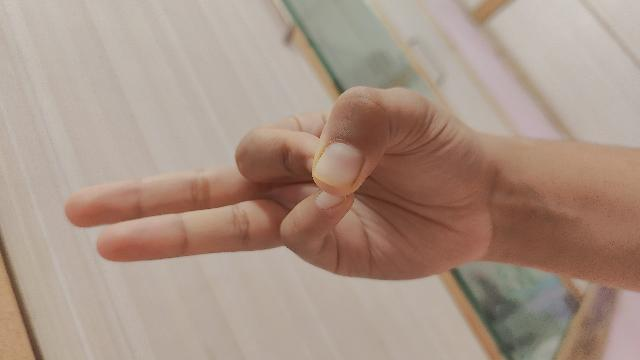katak: (65, 87, 640, 293)
